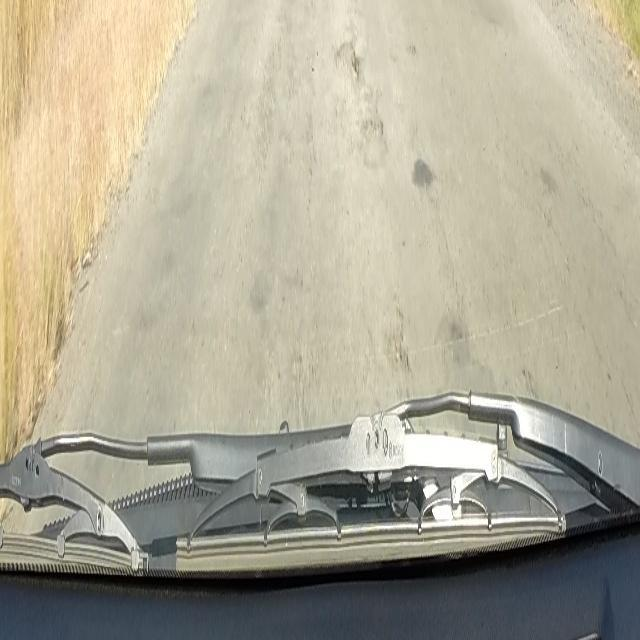pothole: (334, 34, 358, 88), (361, 115, 384, 144)
